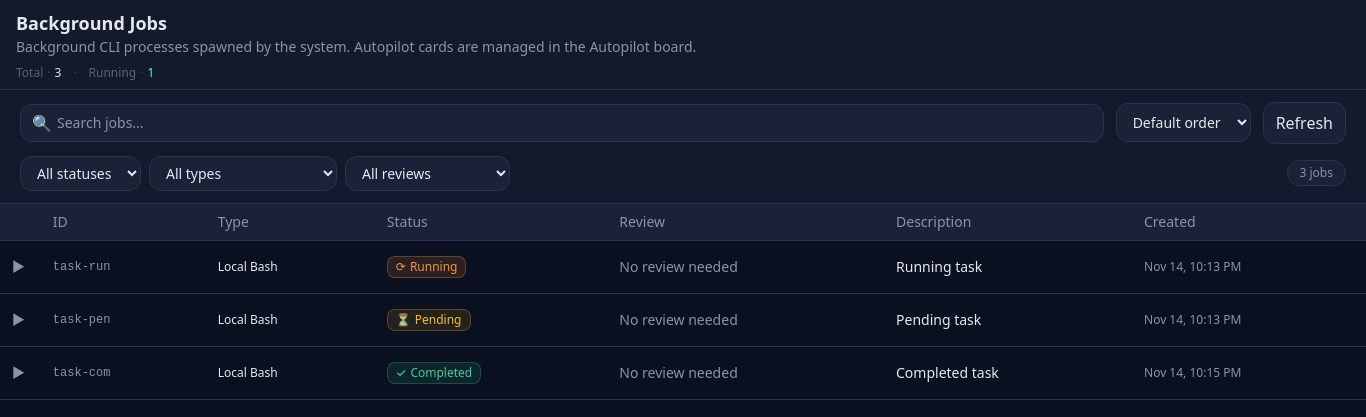
Scenario: TasksPage filters › filters tasks by status via the status dropdown
Expected: the text "Running task" is shown, [896,256,982,276]
Expected: the text "Pending task" is shown, [896,310,981,328]
Select "Running" in the 2nd dropdown "All statuses": (80, 173) [20,156,141,190]
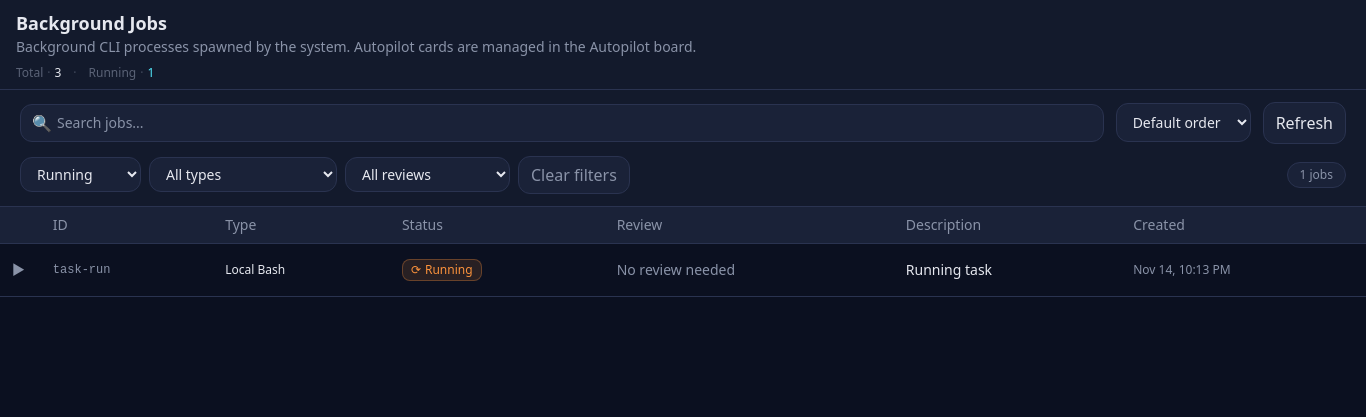
Expected: the text "Running task" is shown, [906,260,992,278]
Expected: the text "Pending task" is gone
